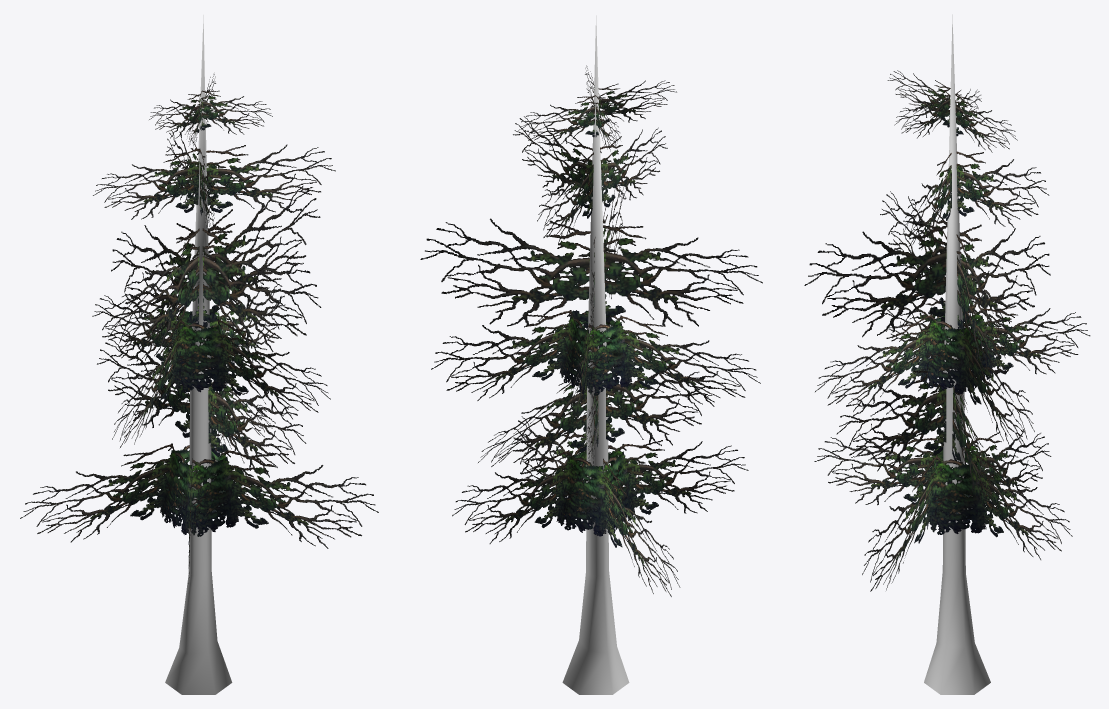
File: tirisfallgladecanopytree06.obj
3 renders of one model, left to right at view 1: azimuth 30°, elevation 25°; view 2: azimuth 150°, elevation 25°; view 3: azimuth 270°, elevation 25°, orthographic.
Parts seen in each view (by area): view 1: TIRISFALLGLADECANOPYTREE061, TIRISFALLGLADECANOPYTREE060; view 2: TIRISFALLGLADECANOPYTREE061, TIRISFALLGLADECANOPYTREE060; view 3: TIRISFALLGLADECANOPYTREE061, TIRISFALLGLADECANOPYTREE060.
Boxes of the visible parts, x1=… form: TIRISFALLGLADECANOPYTREE061: x1=20, y1=74, x2=378, y2=583; TIRISFALLGLADECANOPYTREE060: x1=165, y1=15, x2=232, y2=694; TIRISFALLGLADECANOPYTREE061: x1=420, y1=65, x2=762, y2=596; TIRISFALLGLADECANOPYTREE060: x1=562, y1=15, x2=629, y2=694; TIRISFALLGLADECANOPYTREE061: x1=804, y1=70, x2=1090, y2=591; TIRISFALLGLADECANOPYTREE060: x1=924, y1=14, x2=990, y2=694.
Bounding box in the file's own units: 36.26 × 79.57 × 31.93.
